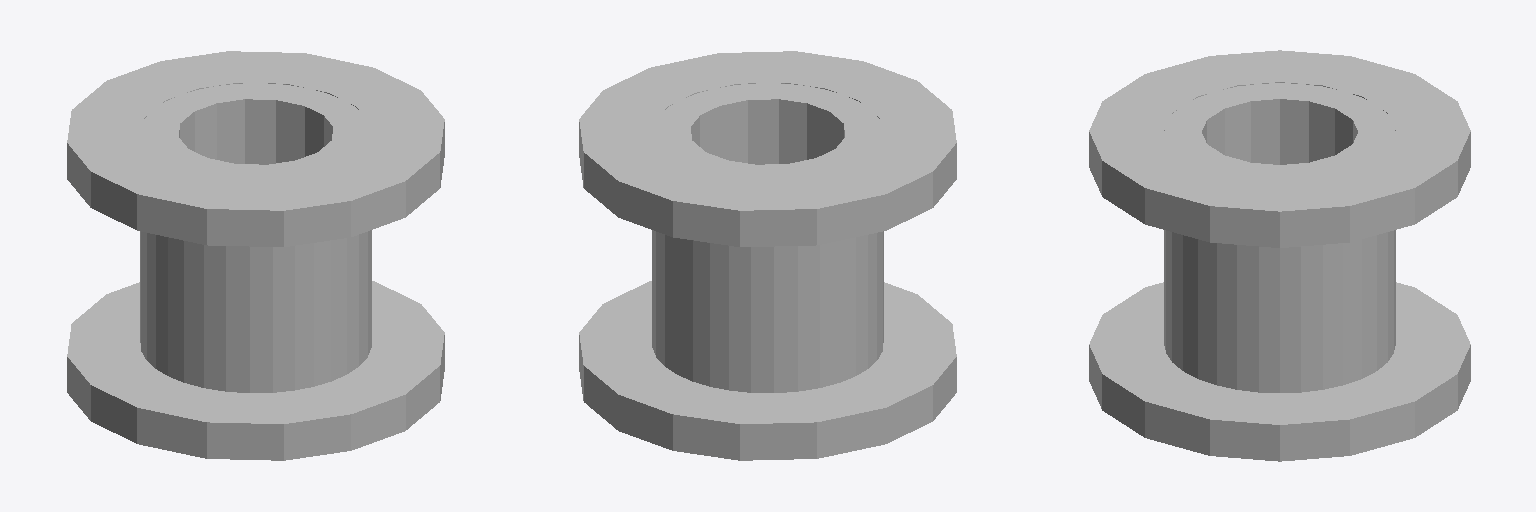
The model's file is zScrewPulley.obj.
The picture shows the model from 3 angles: view 1: azimuth 30°, elevation 25°; view 2: azimuth 150°, elevation 25°; view 3: azimuth 270°, elevation 25°; orthographic projection.
Parts seen in each view (by area): view 1: object_1; view 2: object_1; view 3: object_1.
Part boxes in pixels (bbox=[...]): object_1: bbox=[67, 51, 444, 460]; object_1: bbox=[579, 51, 956, 460]; object_1: bbox=[1089, 50, 1470, 461].
Bounding box in the file's own units: 0.61 × 0.4406 × 0.61.